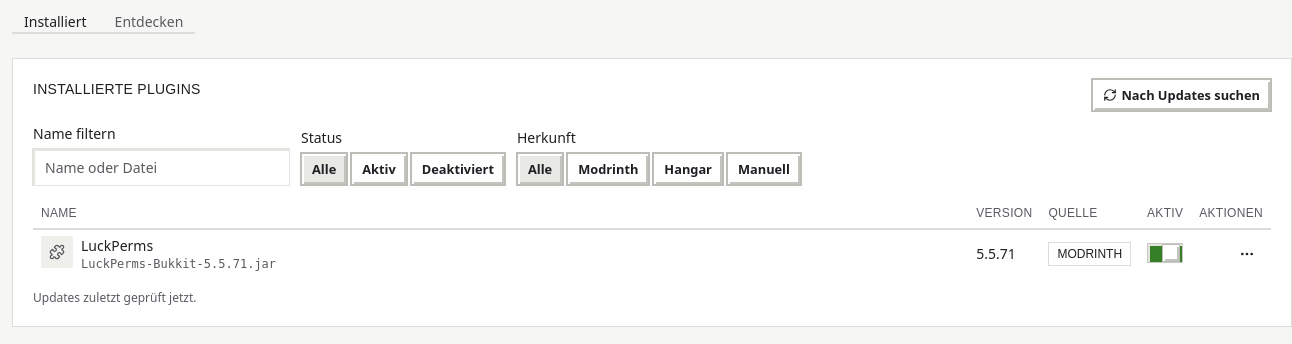
Test: plugin jobs and updates › reports the rate limit of the update check
Expected: the switch named "LuckPerms aktiv" is shown, x1=1147 y1=242 x2=1183 y2=262
Click the button "Nach Updates suchen".
click(1182, 95)  # box x1=1092 y1=79 x2=1271 y2=111
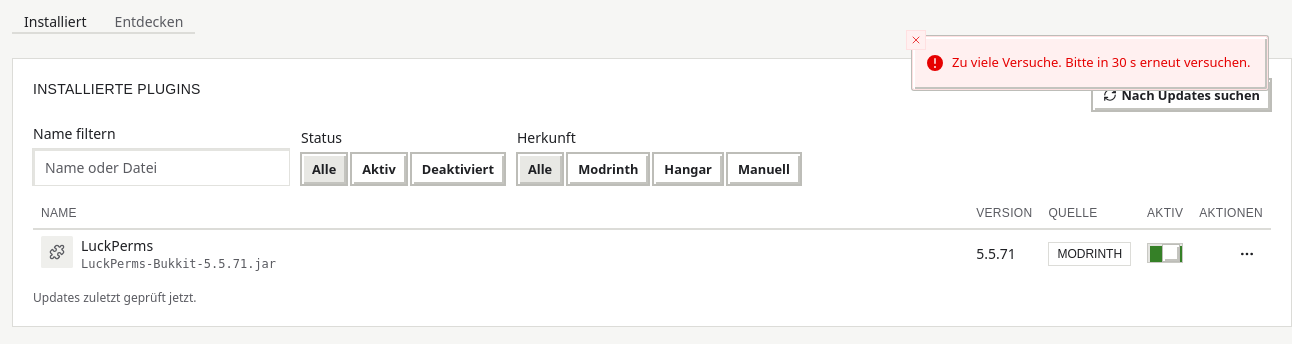
Result: the text "Zu viele Versuche. Bitte in 30 s erneut versuchen." is shown at x1=952 y1=53 x2=1251 y2=72
